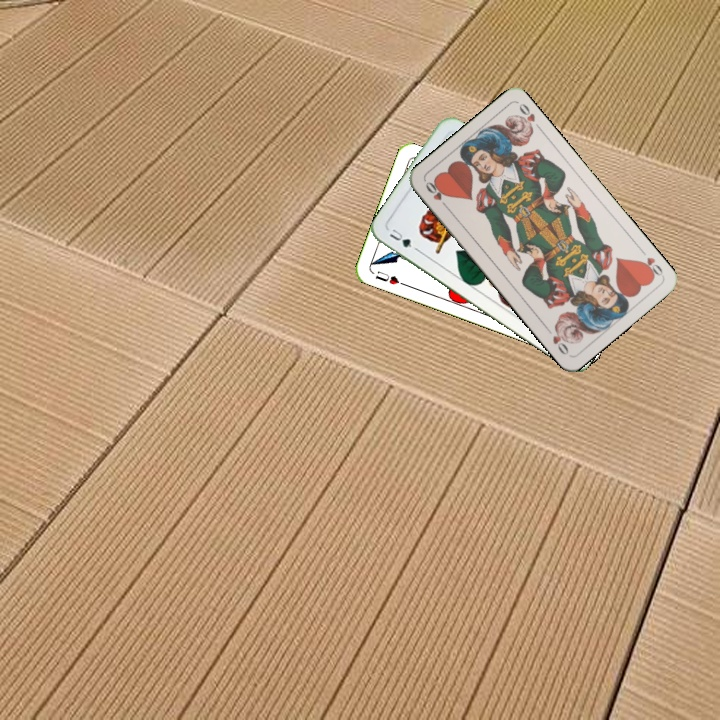GU: (385, 225, 420, 253)
HO: (635, 244, 666, 281), (421, 177, 451, 211)
HU: (371, 267, 408, 288)
